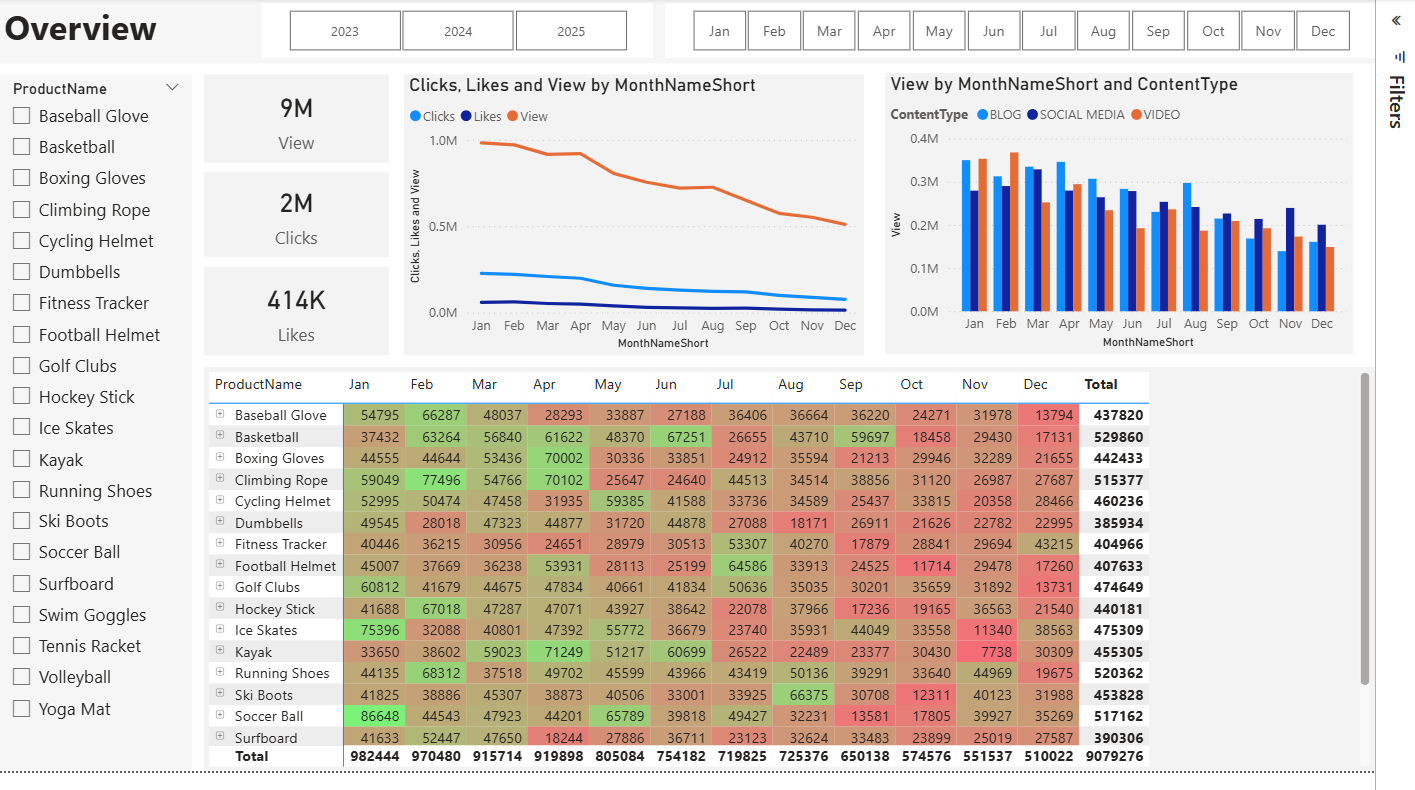

Layout of this report page (visuals, bound fields, positions):
{"tool":"powerbi","page":{"name":"Social Media Details","canvas":[1280,720],"ordinal":2},"visuals":[{"type":"textbox","box":[0,0,1280.2,60.5],"z":0},{"type":"slicer","fields":{"Values":["dim_products.ProductName"]},"box":[0,70.9,180.2,648.8],"z":1000},{"type":"card","fields":{"Values":["Calculator.View"]},"box":[190.7,70.9,172.1,82.6],"z":2000},{"type":"card","fields":{"Values":["Calculator.Likes"]},"box":[190.7,250,172.1,82.6],"z":3000},{"type":"card","fields":{"Values":["Calculator.Clicks"]},"box":[190.7,161.6,172.1,79.1],"z":4000},{"type":"slicer","fields":{"Values":["Calendar.Year"]},"box":[244.2,4.7,364,51.2],"z":5000},{"type":"slicer","fields":{"Values":["Calendar.MonthNameShort"]},"box":[619.8,4.7,660.5,51.2],"z":6000},{"type":"lineChart","fields":{"Category":["Calendar.MonthNameShort"],"Y":["Calculator.Clicks","Calculator.Likes","Calculator.View"]},"box":[376.7,70.9,427.9,261.6],"z":7000},{"type":"clusteredColumnChart","fields":{"Category":["Calendar.MonthNameShort"],"Y":["Calculator.View"],"Series":["fact_engagement_data.ContentType"]},"box":[824.4,69.8,434.9,261.6],"z":8000},{"type":"pivotTable","fields":{"Values":["Calculator.View"],"Rows":["dim_products.ProductName","fact_engagement_data.ContentType"],"Columns":["Calendar.MonthNameShort"]},"box":[190.7,343,1089.5,376.7],"z":9000}]}

Visuals, with their boxes in screenshot pixels (x1, y1, x2, y2), scaled from the page's 1280x720 canvas onto the 1415x790 screenshot:
textbox: rect(0, 0, 1414, 66)
slicer - dim_products.ProductName: rect(0, 78, 199, 789)
card - Calculator.View: rect(211, 78, 401, 168)
card - Calculator.Likes: rect(211, 274, 401, 365)
card - Calculator.Clicks: rect(211, 177, 401, 264)
slicer - Calendar.Year: rect(270, 5, 672, 61)
slicer - Calendar.MonthNameShort: rect(685, 5, 1414, 61)
lineChart - Calendar.MonthNameShort x Calculator.Clicks: rect(416, 78, 889, 365)
clusteredColumnChart - Calendar.MonthNameShort x Calculator.View: rect(911, 77, 1392, 364)
pivotTable - Calculator.View x dim_products.ProductName: rect(211, 376, 1414, 789)
